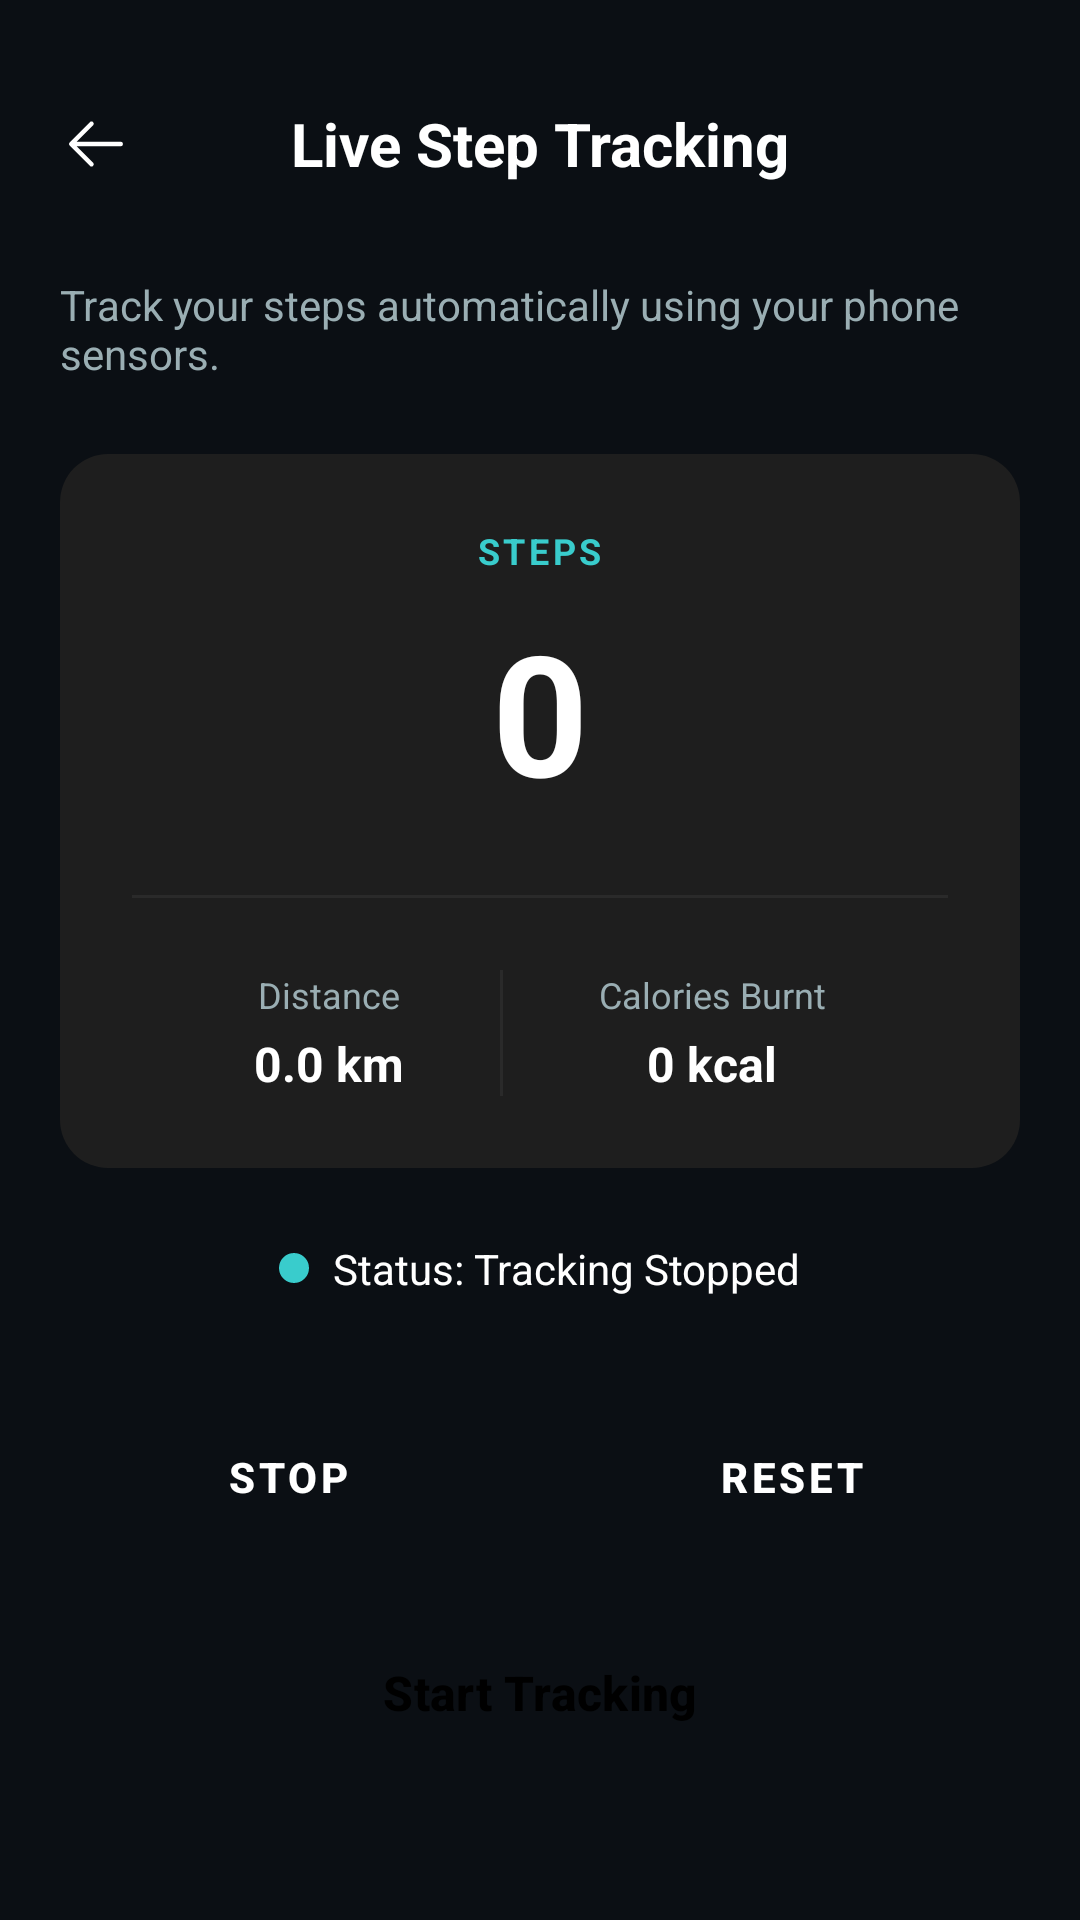

Screen size 1080 x 1920. Icon name, then its box in pixels as (x1, y1, x2, y2):
Back: (69, 121, 123, 167)
